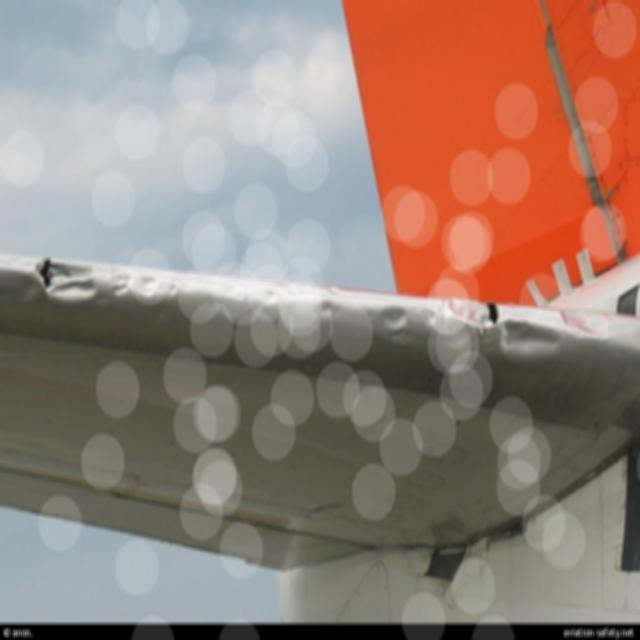dent: (35, 256, 101, 306), (500, 315, 564, 360), (448, 297, 501, 331), (566, 316, 639, 340), (380, 304, 415, 342)
